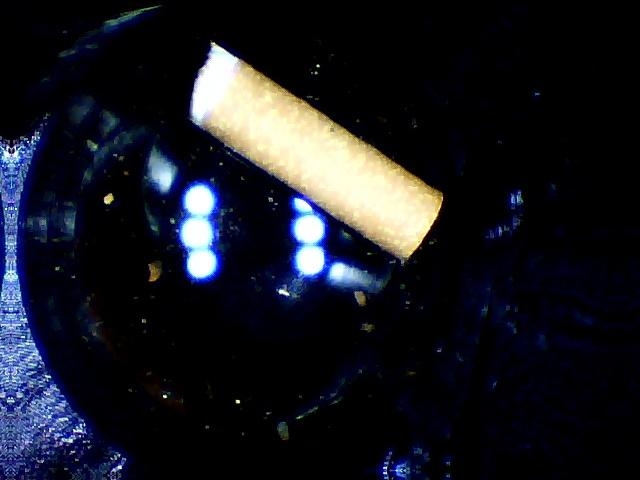megot: (179, 35, 450, 278)
